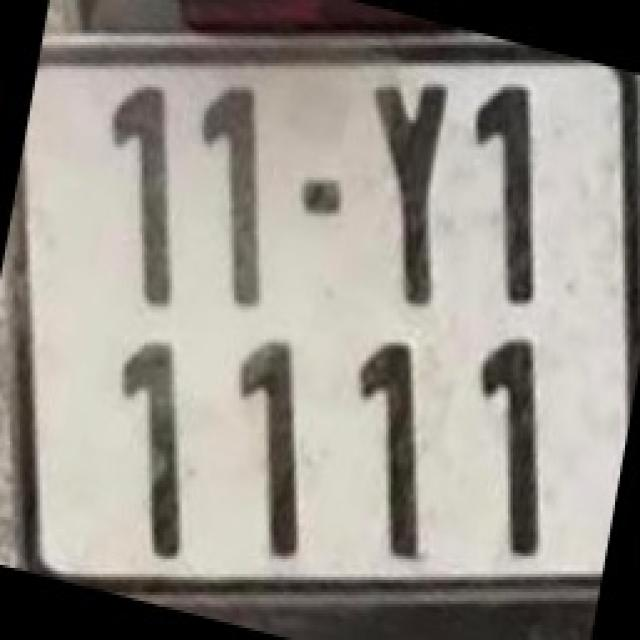1: (474, 332, 559, 560), (354, 336, 438, 562), (116, 336, 198, 562), (234, 335, 314, 560), (107, 81, 184, 307), (472, 80, 549, 305), (199, 81, 274, 307)
Y: (372, 74, 454, 308)
